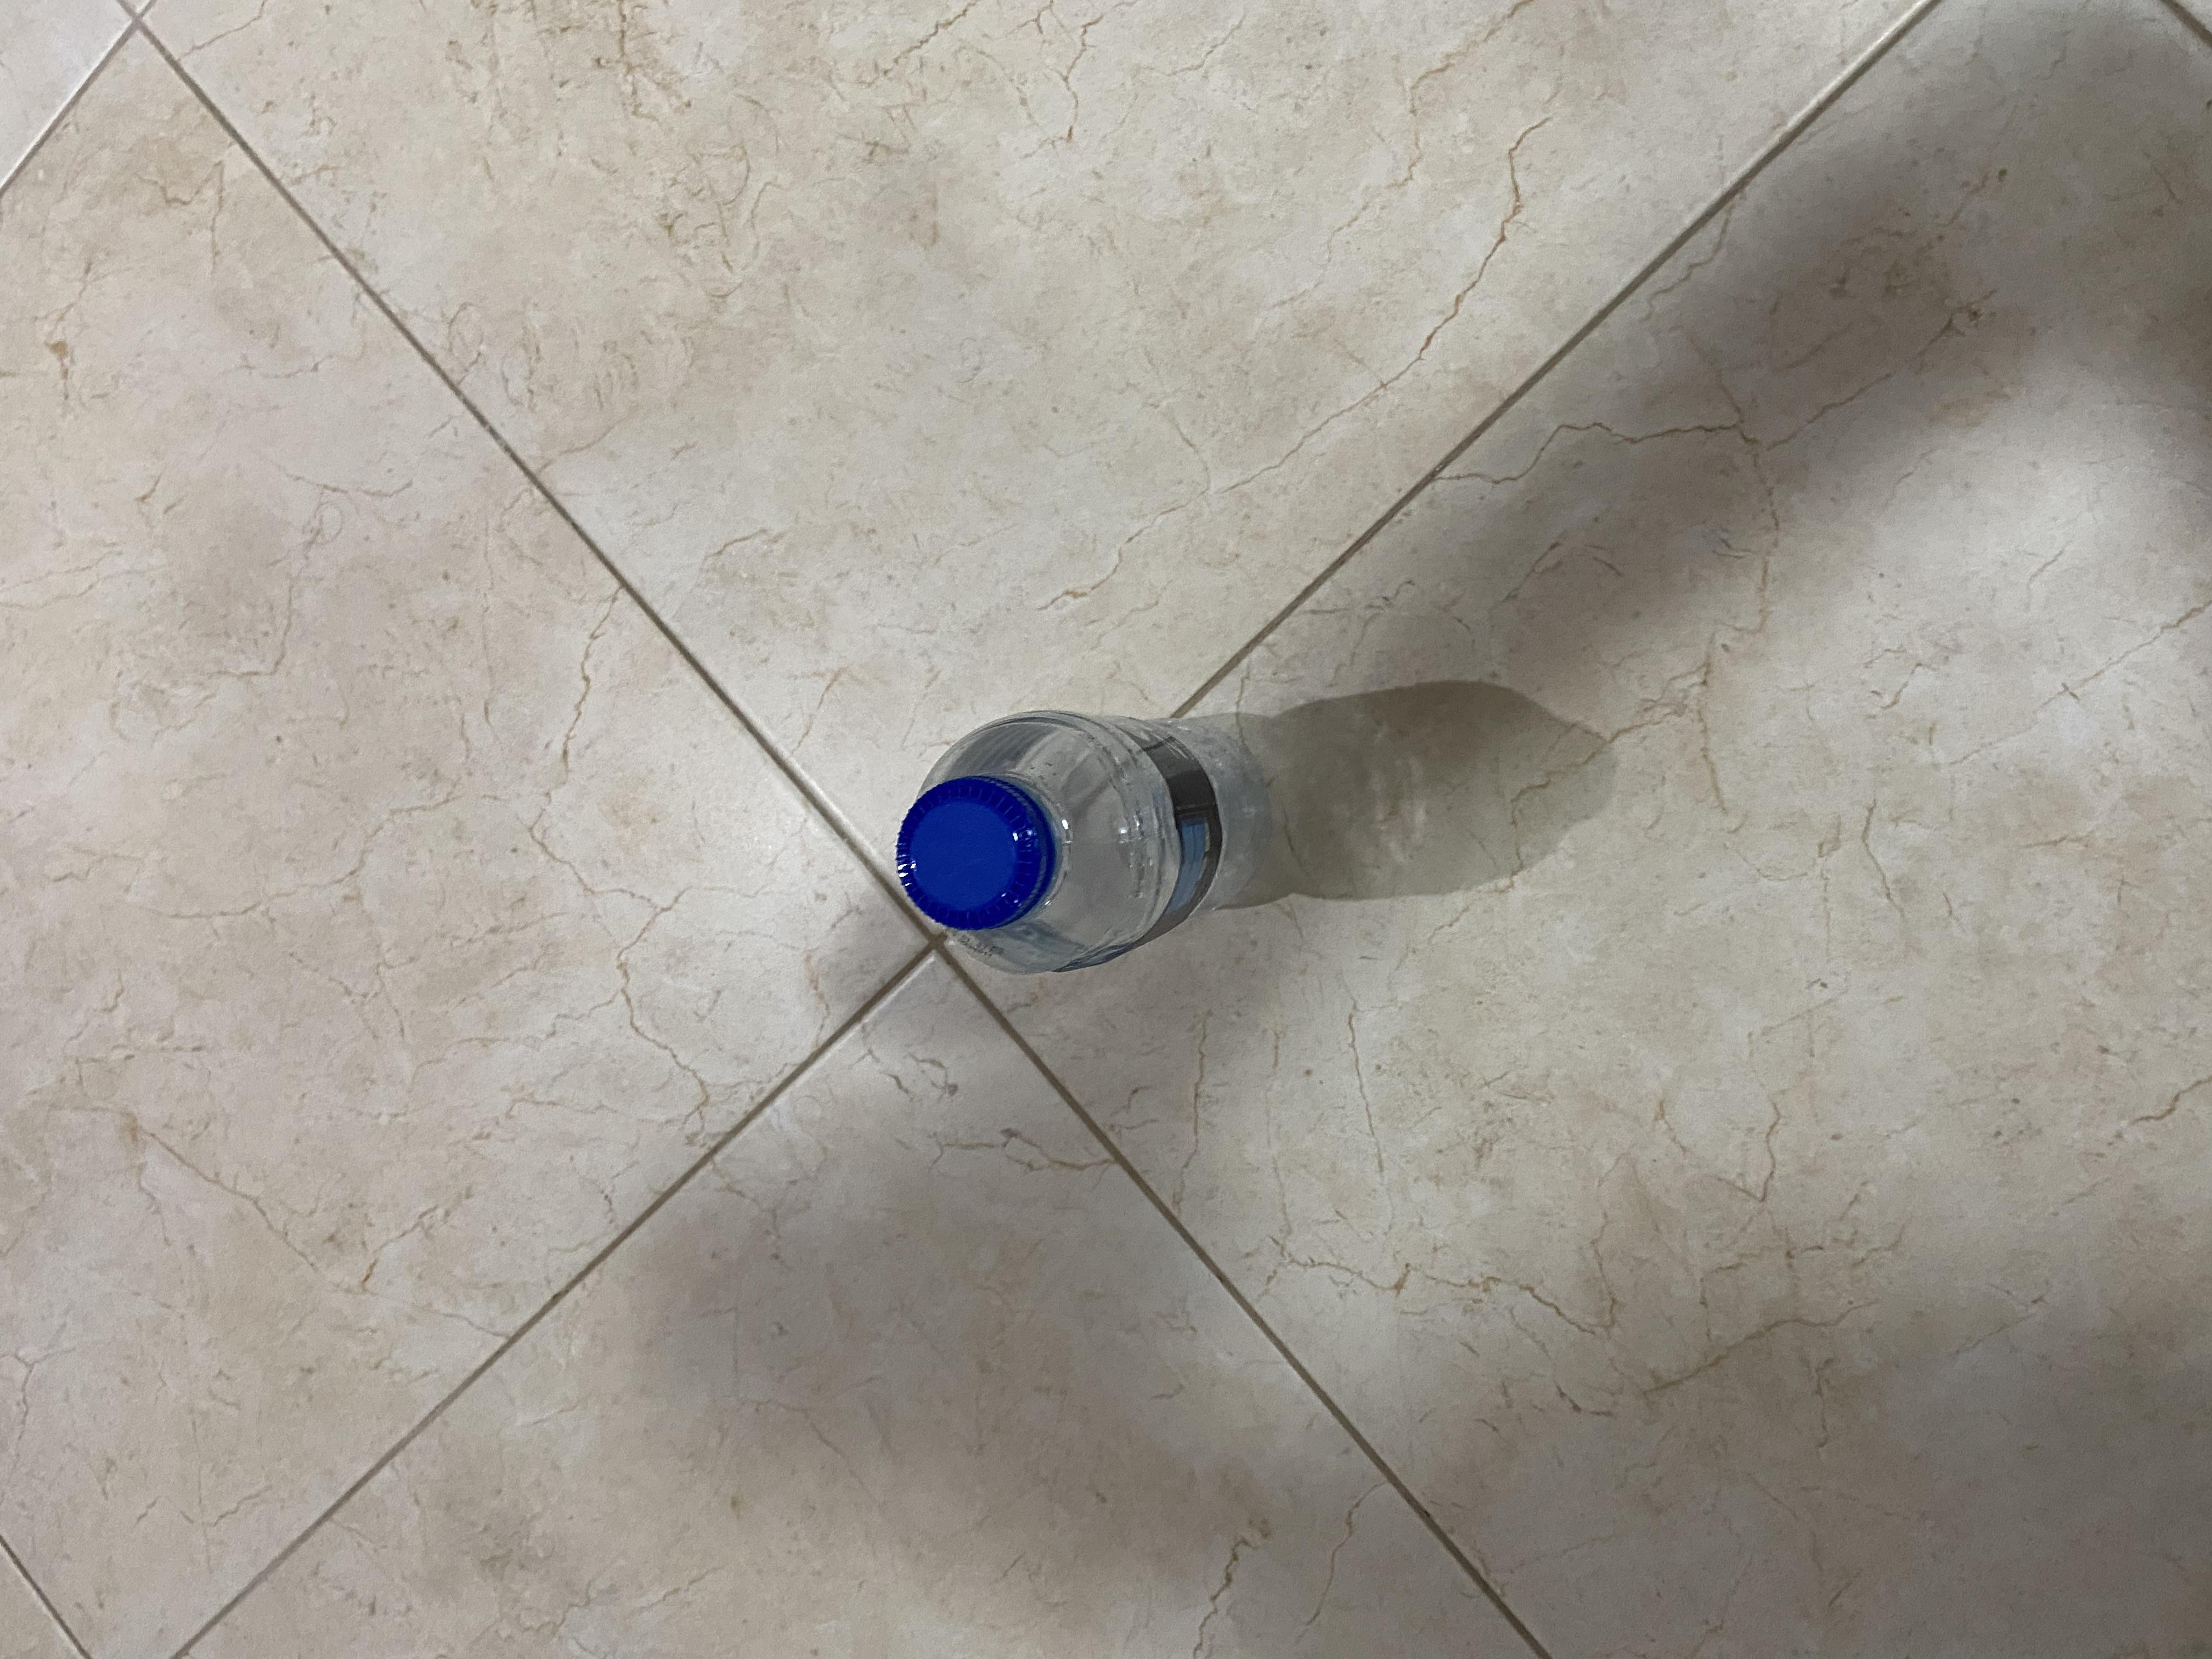bottle: (909, 664, 1291, 1108)
